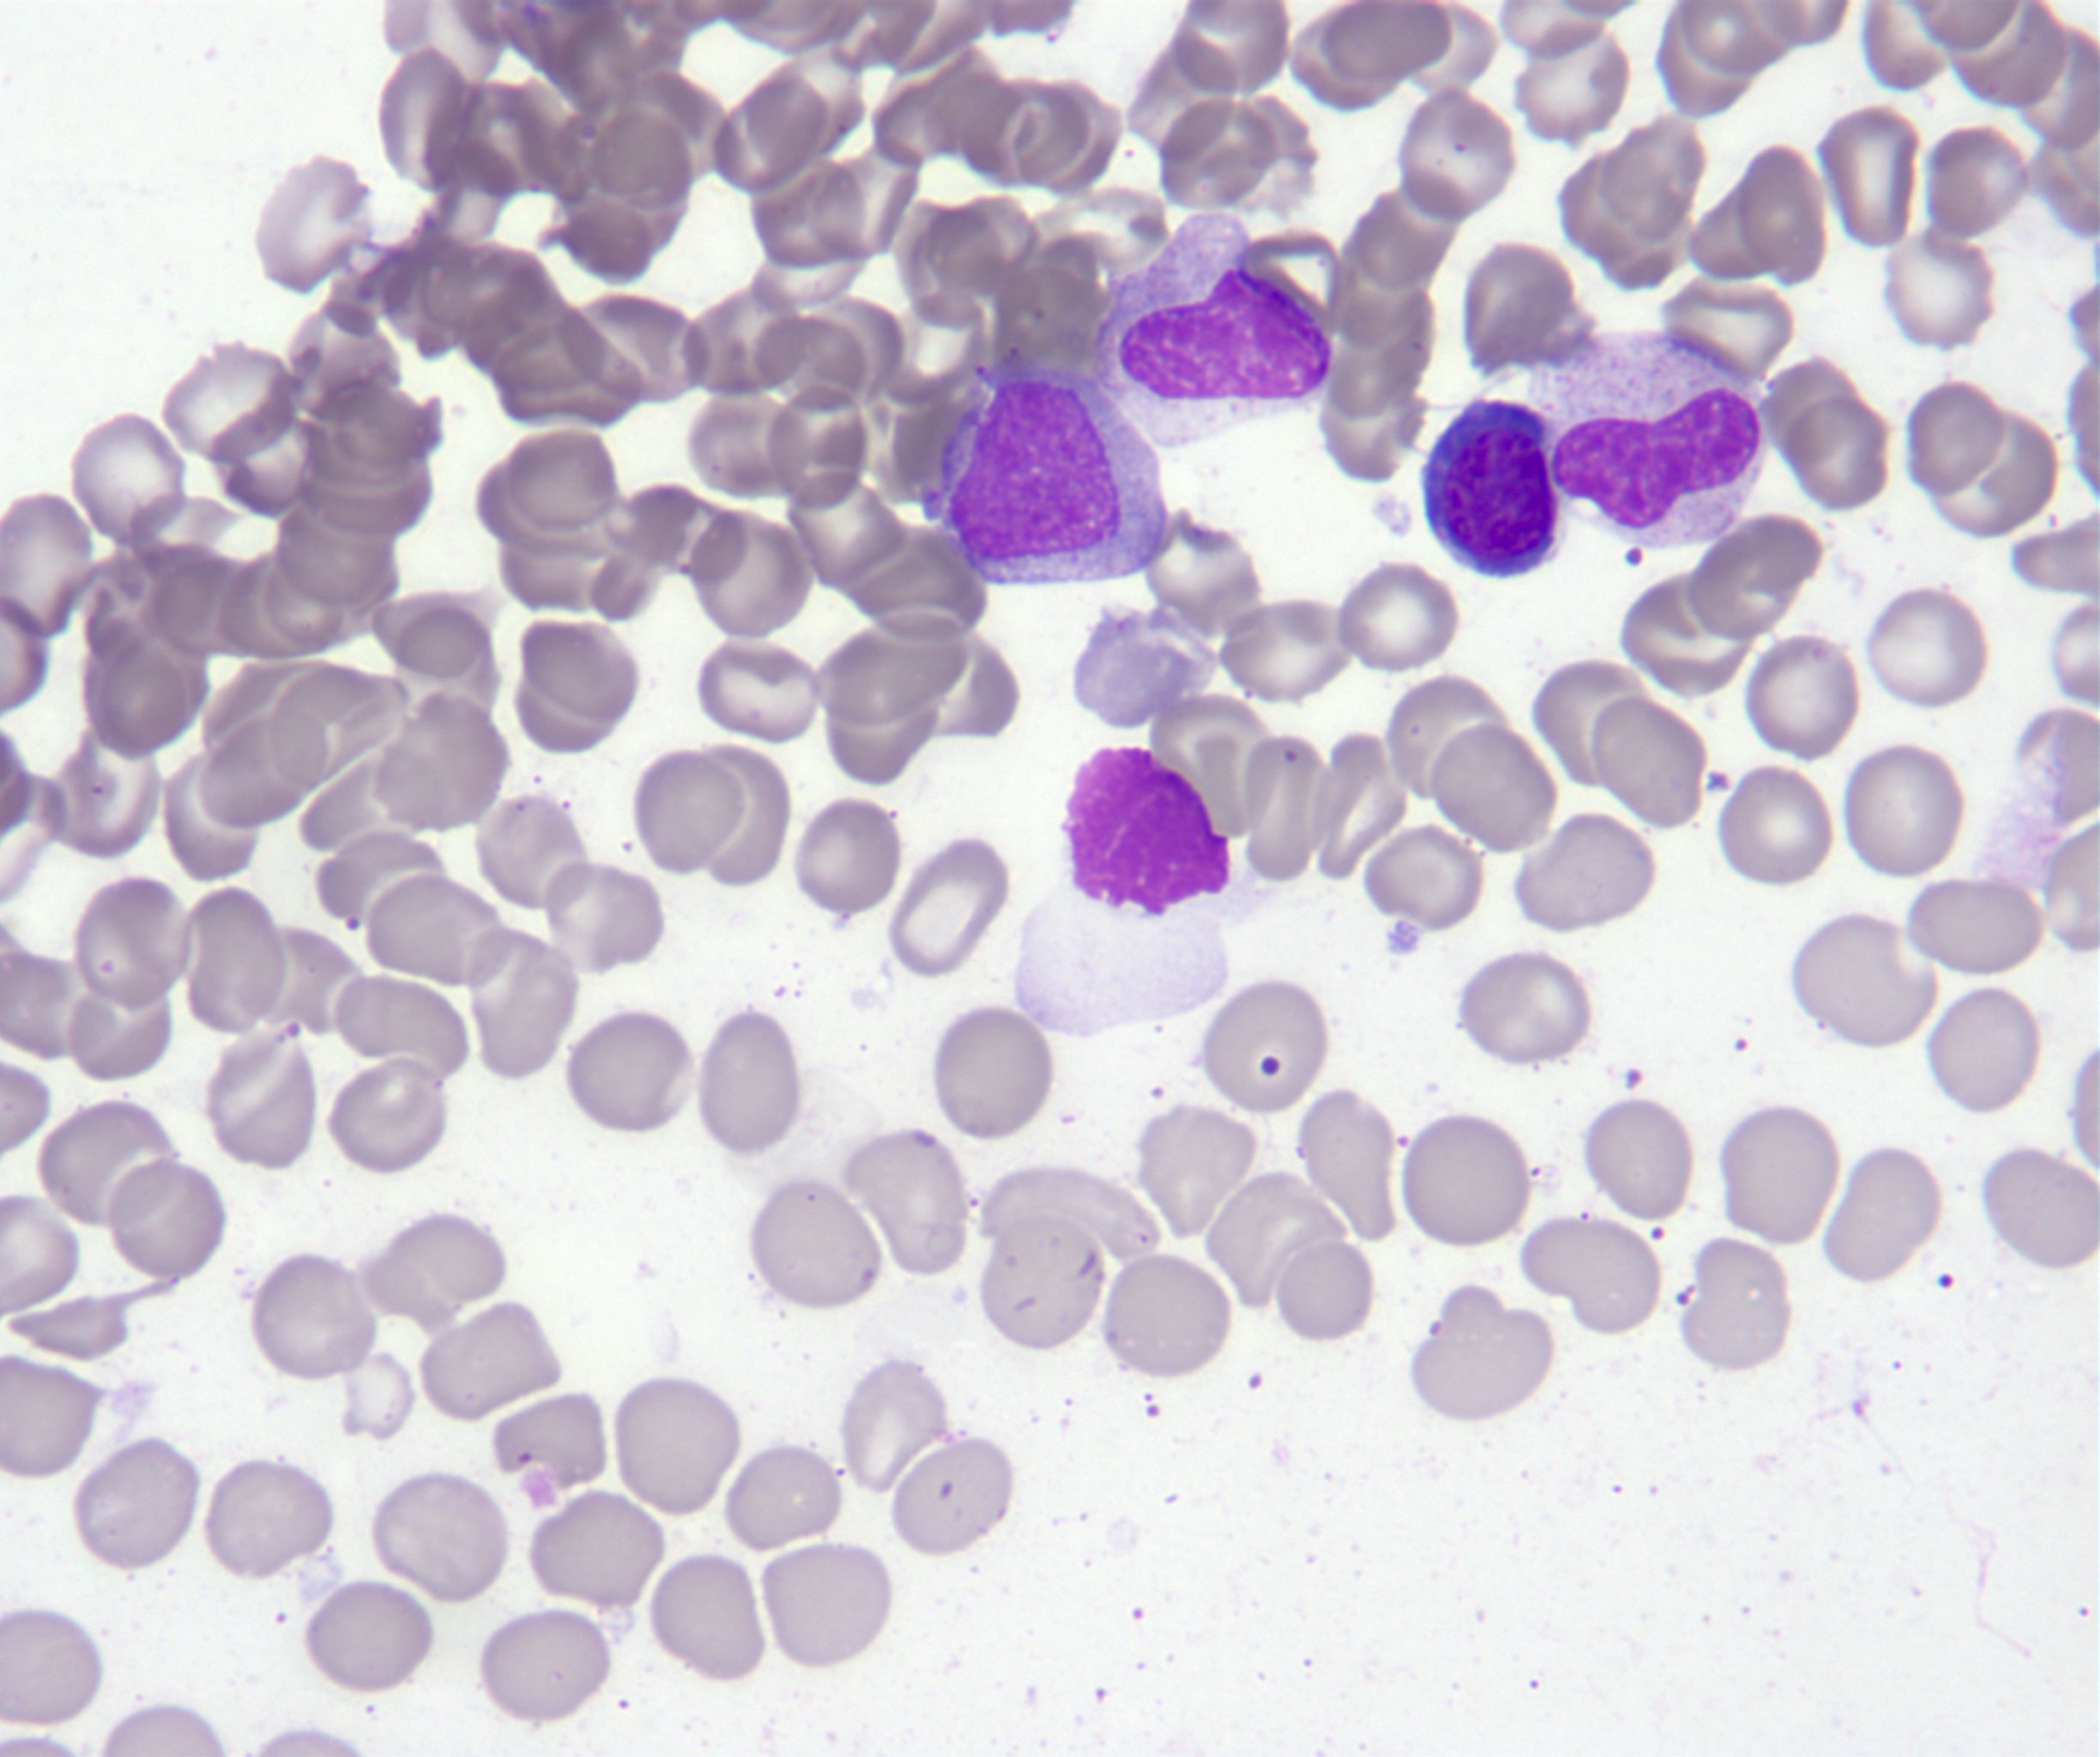22: (1422, 398, 1559, 578)
3: (923, 356, 1167, 586)
4: (1094, 211, 1331, 448)
5: (1530, 328, 1765, 546)
x: (1059, 747, 1230, 918)
